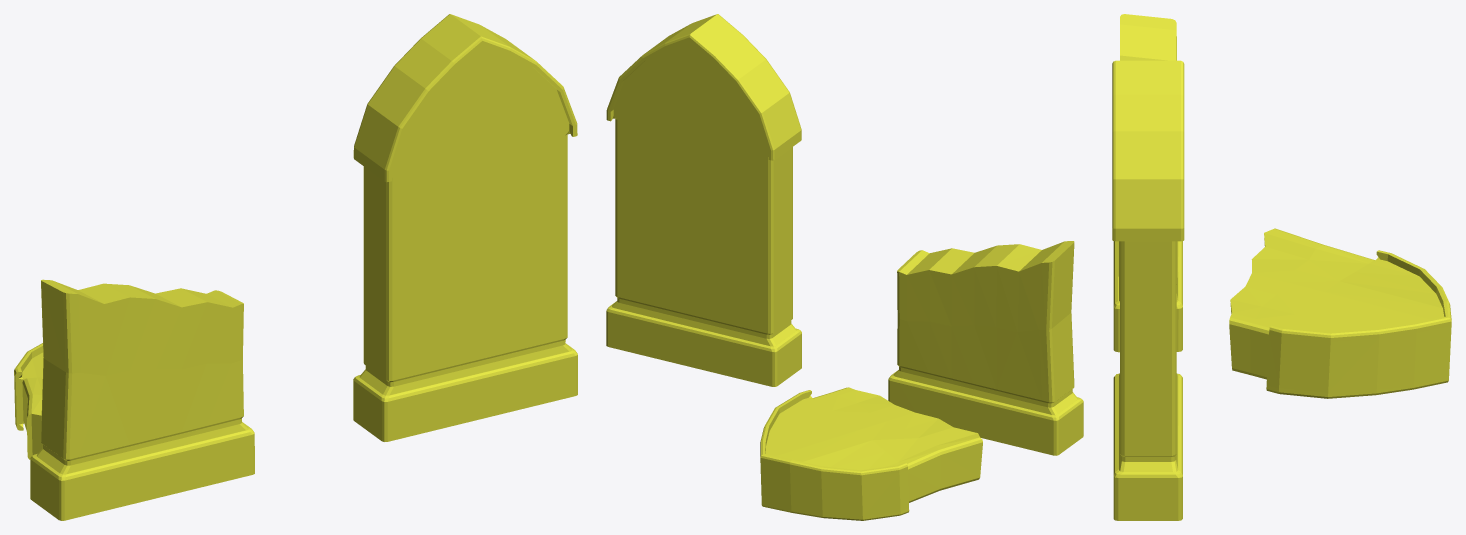
The model's file is Total Assets2.fbx_Headstone05.fbx.
The picture shows the model from 3 angles, left to right: view 1: azimuth 30°, elevation 25°; view 2: azimuth 150°, elevation 25°; view 3: azimuth 270°, elevation 25°; orthographic projection. The views are drawn at different scales.
Visible parts, largest first — view 1: Headstones_5_001, Headstones_5; view 2: Headstones_5_001, Headstones_5; view 3: Headstones_5, Headstones_5_001.
Part boxes in pixels (bbox=[...]): Headstones_5_001: bbox=[353, 14, 577, 441]; Headstones_5: bbox=[14, 279, 254, 520]; Headstones_5_001: bbox=[606, 14, 801, 386]; Headstones_5: bbox=[760, 241, 1083, 520]; Headstones_5: bbox=[1113, 14, 1451, 398]; Headstones_5_001: bbox=[1112, 60, 1184, 520].
Bounding box in the file's own units: 186 × 137 × 98.22.
